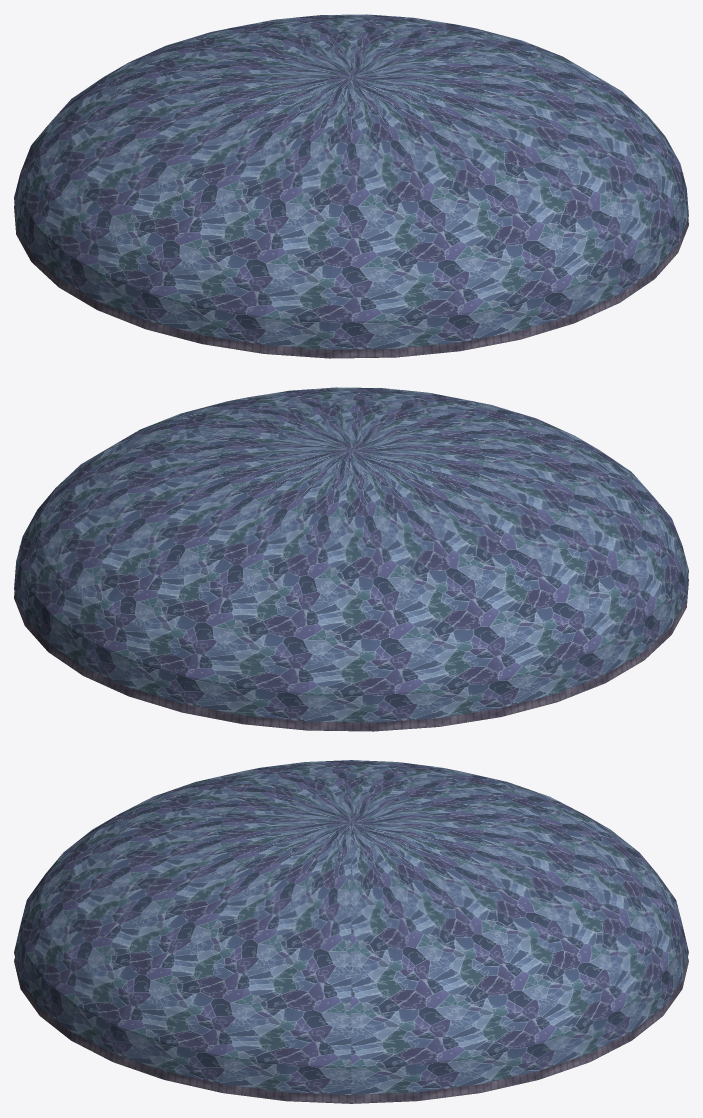
The model's file is Oracle_Vault.gltf.
3 views of the same model, one above another, from view 1: azimuth 30°, elevation 25°; view 2: azimuth 150°, elevation 25°; view 3: azimuth 270°, elevation 25° (orthographic).
Parts seen in each view (by area): view 1: Oracle_Vault; view 2: Oracle_Vault; view 3: Oracle_Vault.
Part boxes in pixels (x1,y1,x2,y2): Oracle_Vault: [14, 14, 688, 358]; Oracle_Vault: [14, 387, 688, 731]; Oracle_Vault: [14, 760, 688, 1103].
Bounding box in the file's own units: 104 × 23.5 × 104.
Materials: 2 (2 with a texture image).
